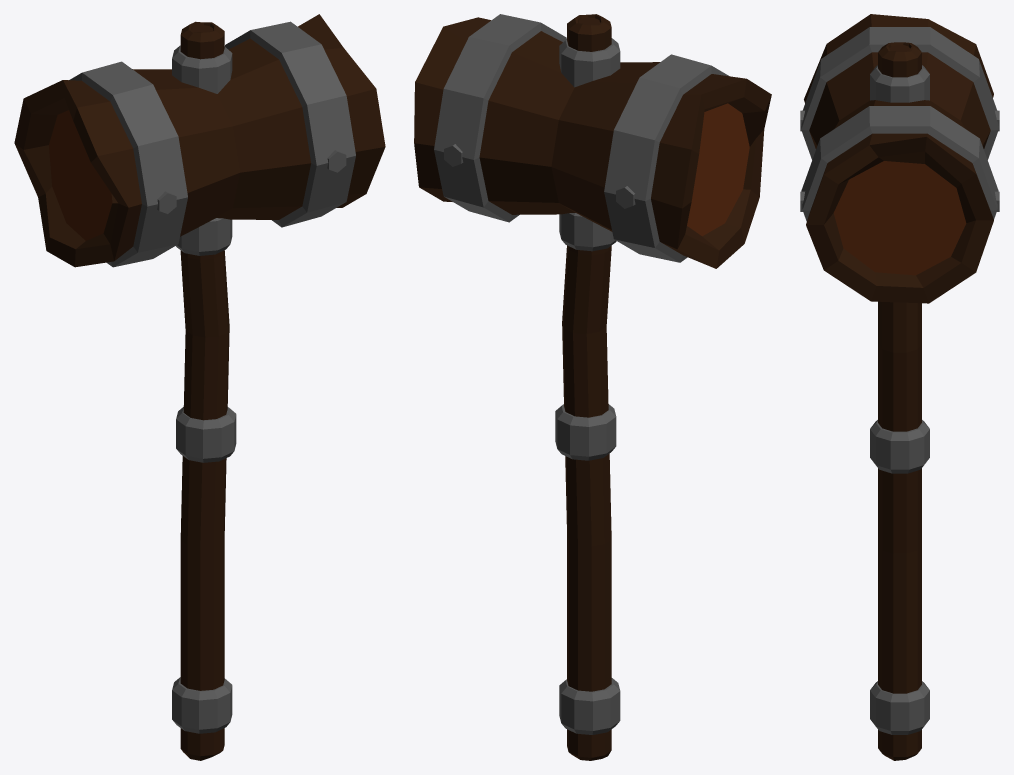
The model's file is DummyHammer.fbx.
The picture shows the model from 3 angles, left to right: view 1: azimuth 30°, elevation 25°; view 2: azimuth 150°, elevation 25°; view 3: azimuth 270°, elevation 25°; orthographic projection. The views are drawn at different scales.
Visible parts, largest first — view 1: Hamer 1, Hammer 1.002, Hammer 1.001, Hammer 1.004, Hammer 1.003; view 2: Hamer 1, Hammer 1.002, Hammer 1.001, Hammer 1.004, Hammer 1.003; view 3: Hamer 1, Hammer 1.003, Hammer 1.004, Hammer 1.001, Hammer 1.002.
Boxes of the visible parts, x1=… form: Hamer 1: x1=14, y1=14, x2=385, y2=760; Hammer 1.002: x1=69, y1=61, x2=187, y2=267; Hammer 1.001: x1=225, y1=21, x2=355, y2=227; Hammer 1.004: x1=172, y1=45, x2=236, y2=733; Hammer 1.003: x1=49, y1=110, x2=112, y2=240; Hamer 1: x1=414, y1=14, x2=771, y2=760; Hammer 1.002: x1=604, y1=54, x2=729, y2=262; Hammer 1.001: x1=434, y1=14, x2=566, y2=222; Hammer 1.004: x1=555, y1=38, x2=620, y2=734; Hammer 1.003: x1=687, y1=103, x2=749, y2=236; Hamer 1: x1=804, y1=14, x2=993, y2=760; Hammer 1.003: x1=833, y1=161, x2=966, y2=275; Hammer 1.004: x1=870, y1=65, x2=929, y2=734; Hammer 1.001: x1=800, y1=106, x2=999, y2=221; Hammer 1.002: x1=800, y1=27, x2=999, y2=159.
Size of the model in its own units: 679 by 1698 by 434.
3 materials, 3 textured.
